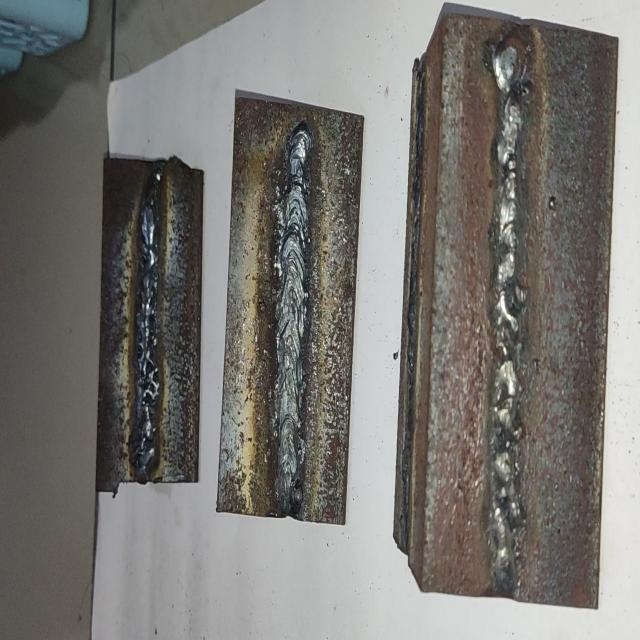Defect: (490, 45, 522, 584), (142, 184, 160, 461)
Welding Line: (491, 27, 532, 586), (276, 112, 312, 506), (136, 167, 160, 474)
Workpiece: (389, 0, 623, 616), (212, 88, 368, 530), (92, 153, 204, 503)
